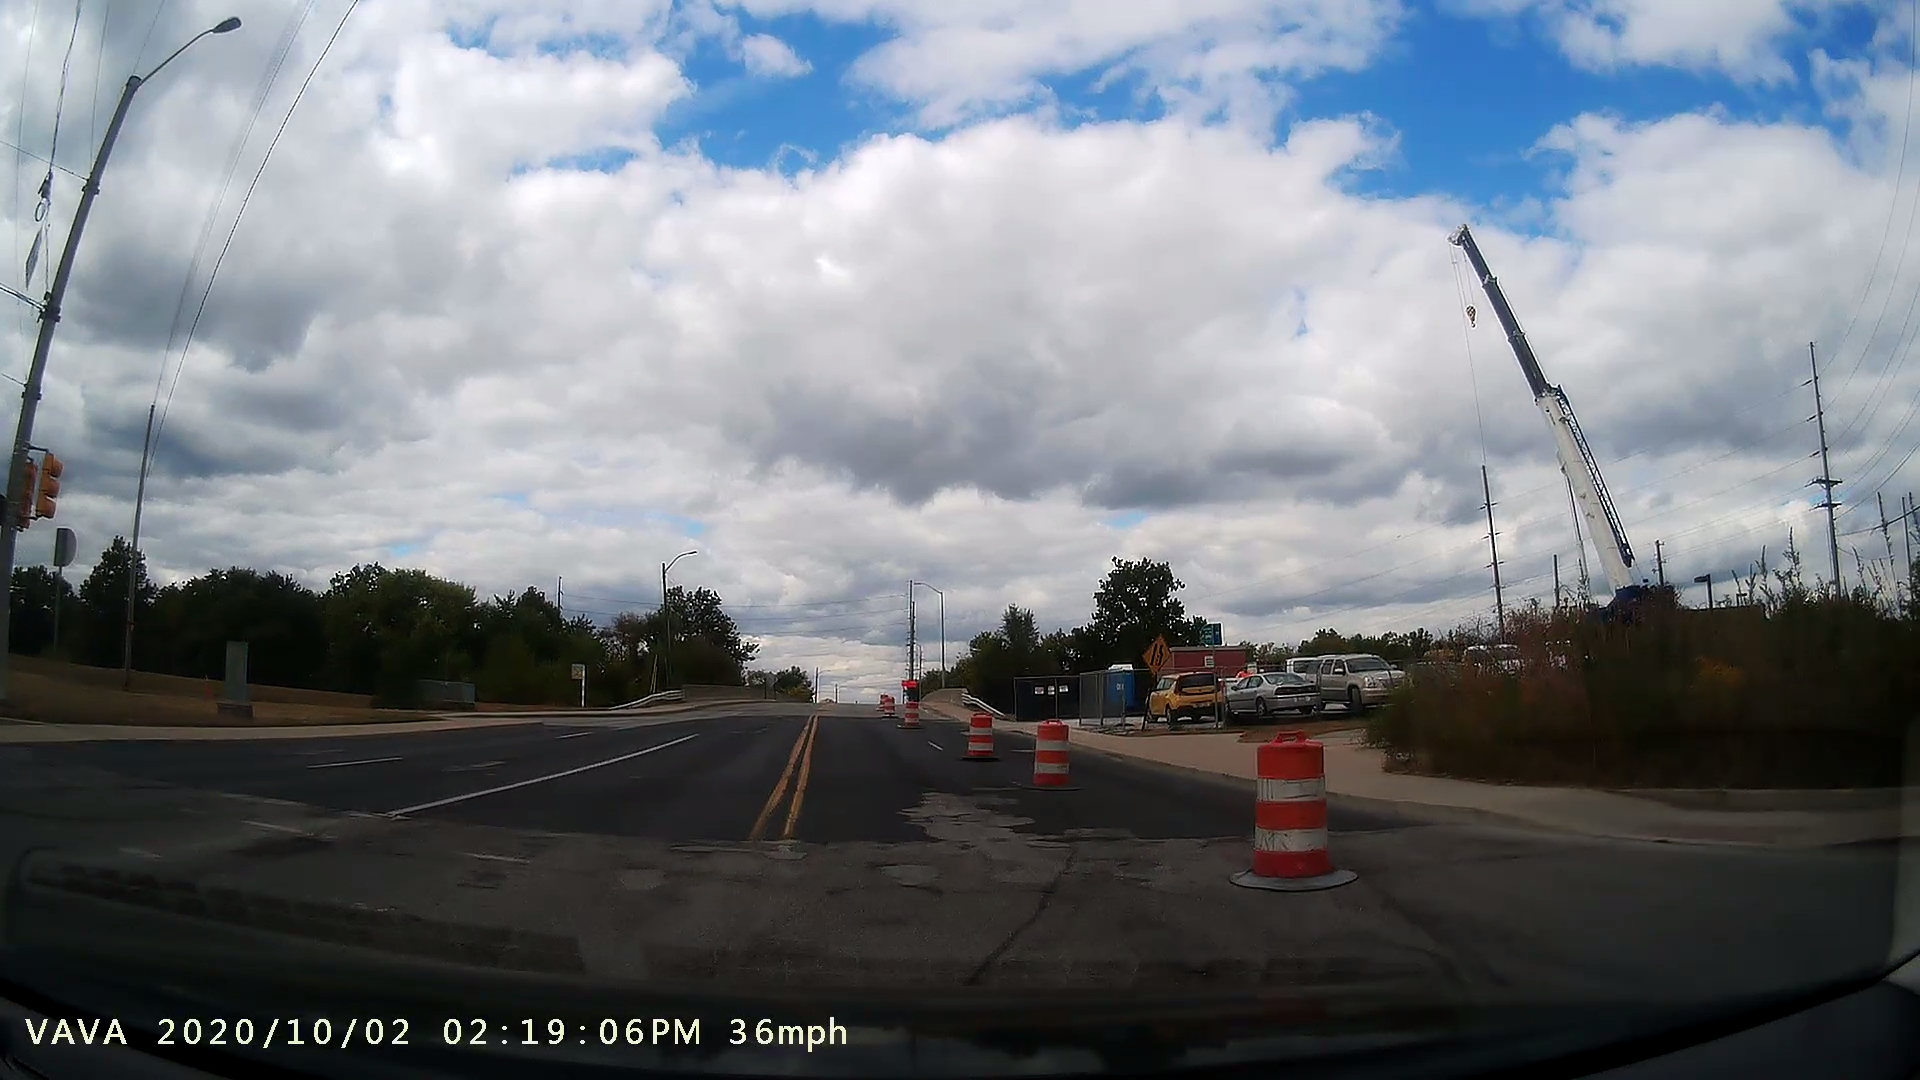const_barrel: (1224, 715, 1360, 899), (1022, 709, 1079, 799), (953, 698, 1004, 771)
